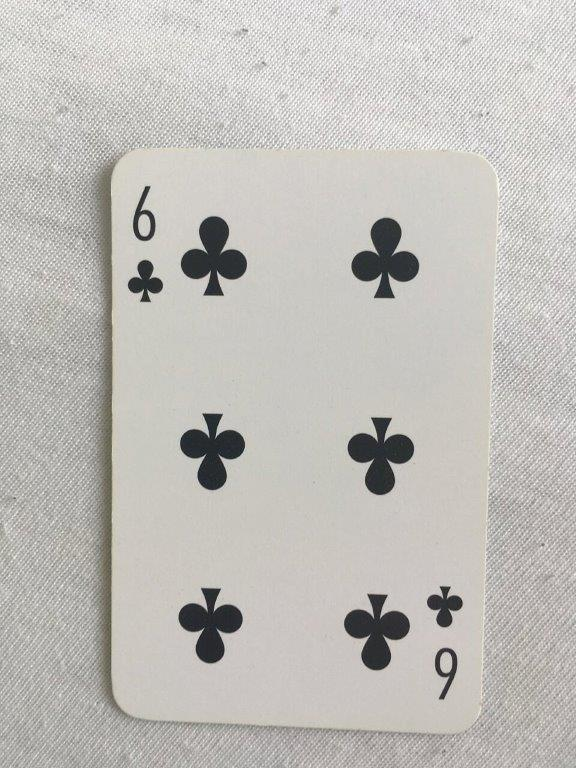6C: (104, 144, 504, 739)
